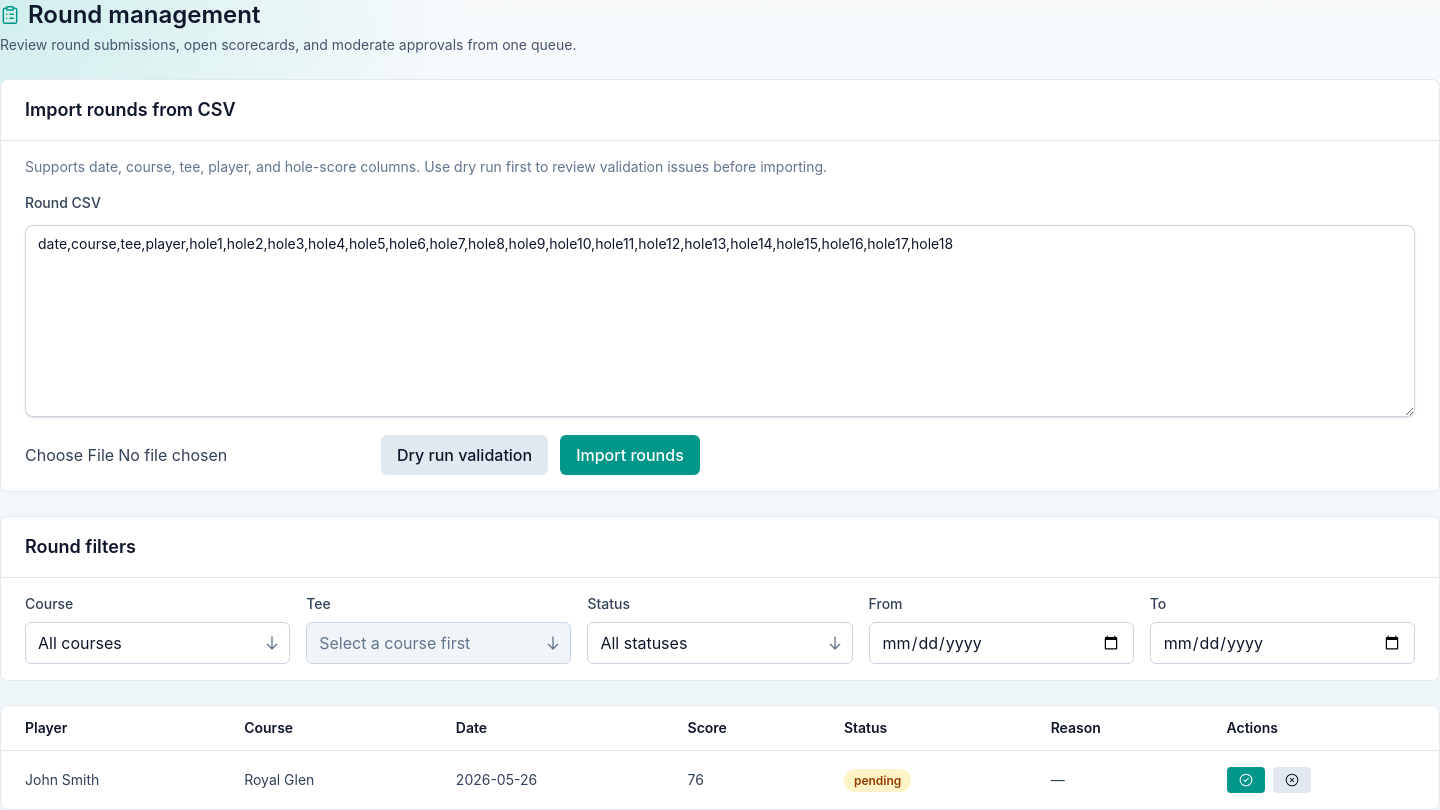
AdminRoundsPage › opens the rejection modal and submits a rejection reason
(page scrolled)
Click the button named "Reject round" at (1292, 780), box x1=1272 y1=767 x2=1310 y2=793
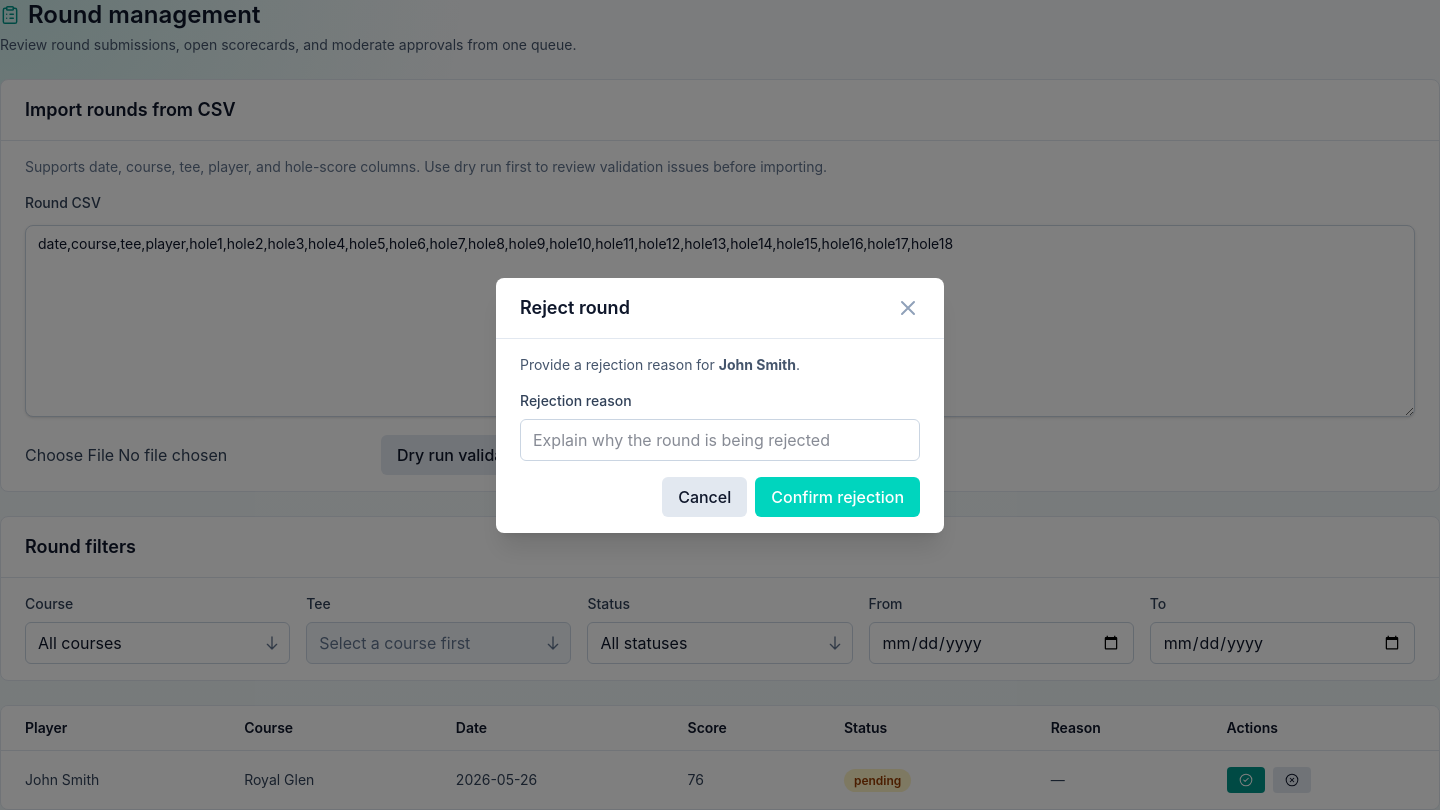
Type "Missing marker signature" into the field named "Rejection reason" at (720, 440), box x1=520 y1=418 x2=920 y2=460
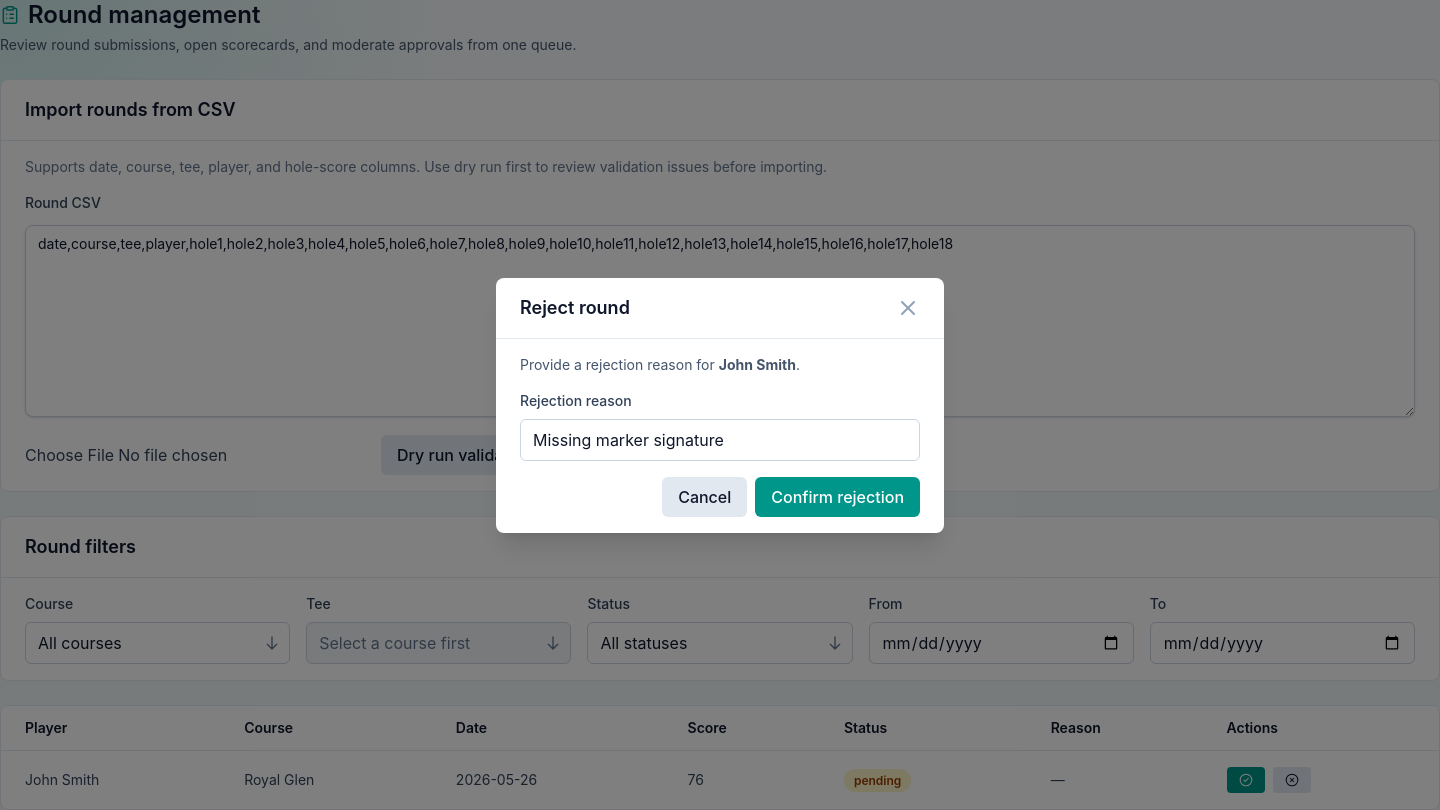
Click the button "Confirm rejection" at (838, 496), box x1=755 y1=476 x2=920 y2=516
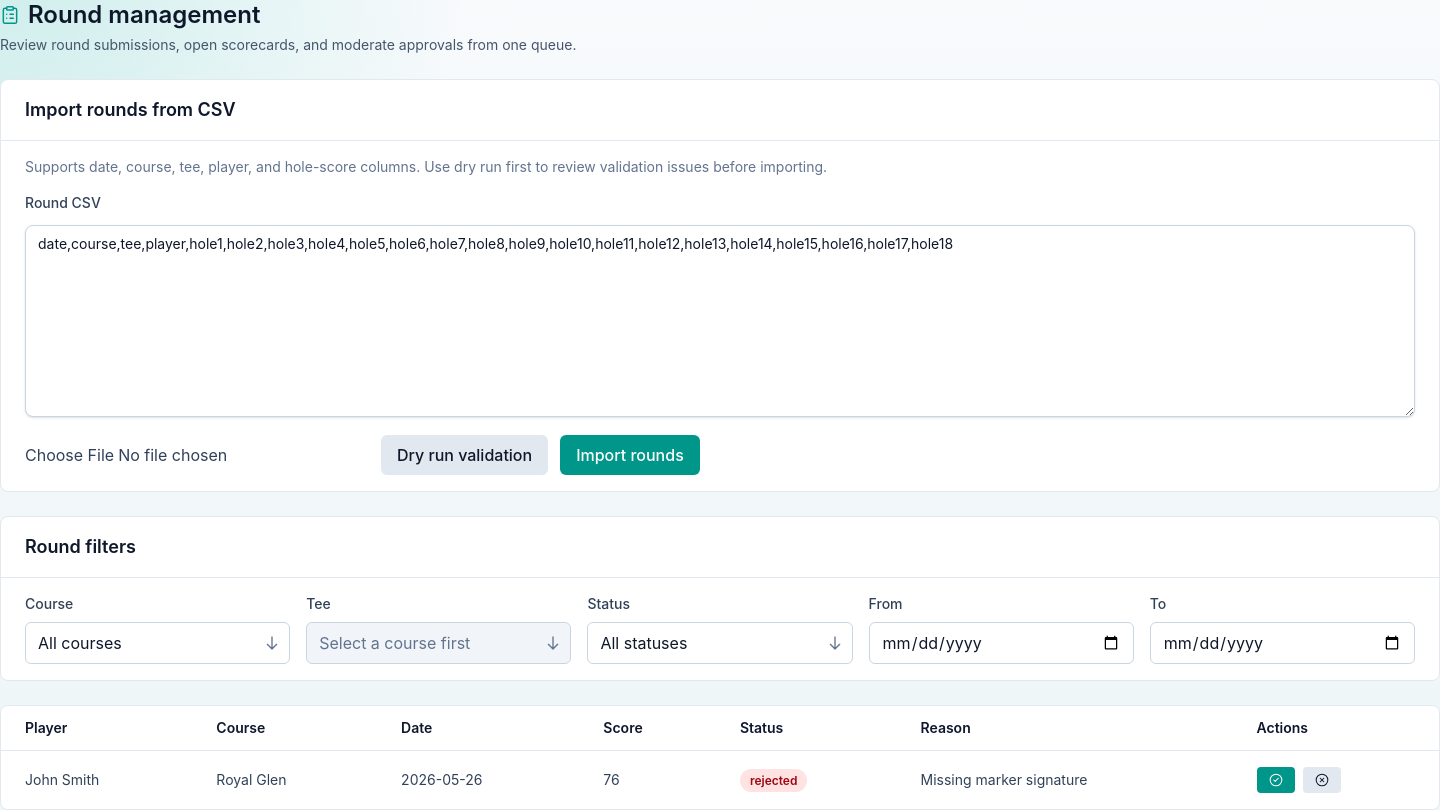
Result: the text "Missing marker signature" is shown at x1=896 y1=750 x2=1232 y2=809
